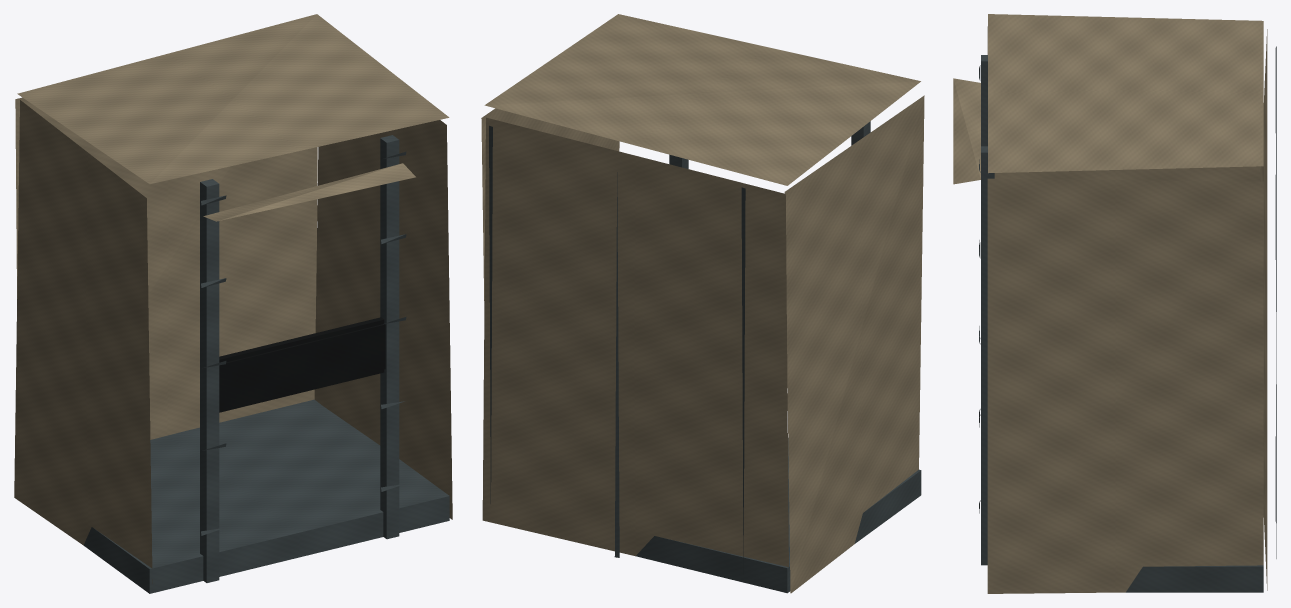
File: marshal-post-lod.glb
3 views of the same model, side by side, from view 1: azimuth 30°, elevation 25°; view 2: azimuth 150°, elevation 25°; view 3: azimuth 270°, elevation 25° (orthographic). The views are drawn at different scales.
Parts seen in each view (by area): view 1: marshal-post-marshal-hut_1, marshal-post-marshal-hut_0, marshal-post-marshal-hut_3, marshal-post-marshal-hut_2; view 2: marshal-post-marshal-hut_1, marshal-post-marshal-hut_0; view 3: marshal-post-marshal-hut_1, marshal-post-marshal-hut_0.
Part boxes in pixels (x1=…): marshal-post-marshal-hut_1: x1=14, y1=14, x2=452, y2=583; marshal-post-marshal-hut_0: x1=83, y1=135, x2=449, y2=593; marshal-post-marshal-hut_3: x1=219, y1=324, x2=385, y2=409; marshal-post-marshal-hut_2: x1=219, y1=317, x2=384, y2=412; marshal-post-marshal-hut_1: x1=481, y1=14, x2=924, y2=593; marshal-post-marshal-hut_0: x1=489, y1=121, x2=921, y2=593; marshal-post-marshal-hut_1: x1=953, y1=14, x2=1267, y2=593; marshal-post-marshal-hut_0: x1=979, y1=46, x2=1276, y2=592.
Bounding box in the file's own units: 2.5 × 3.2 × 2.2.
3 materials, 3 textured.
